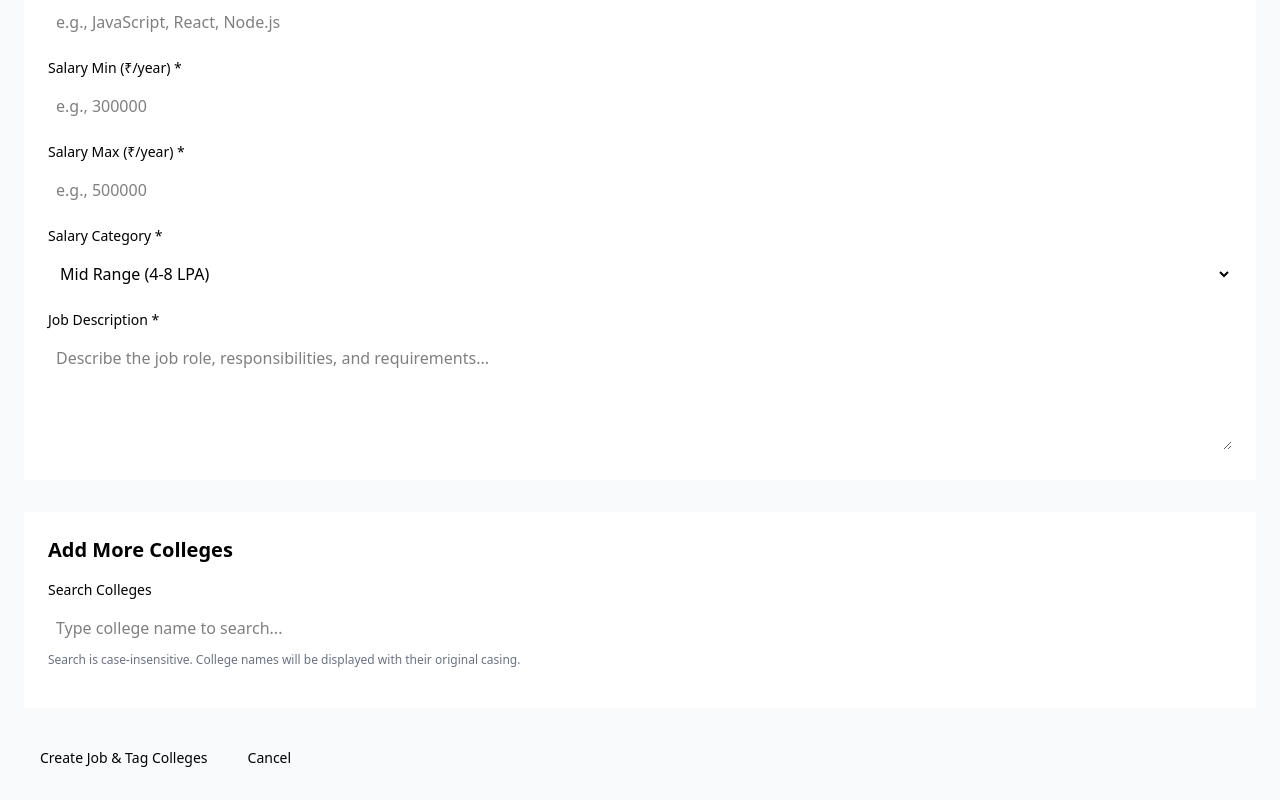
Test case: Organization College Tagging Page › Adding Colleges › adds college to tagged list when clicked
(page scrolled)
Type "Stanford" into the field with placeholder "Type college name to search...". click: (640, 628)
box: [48,608,1232,648]
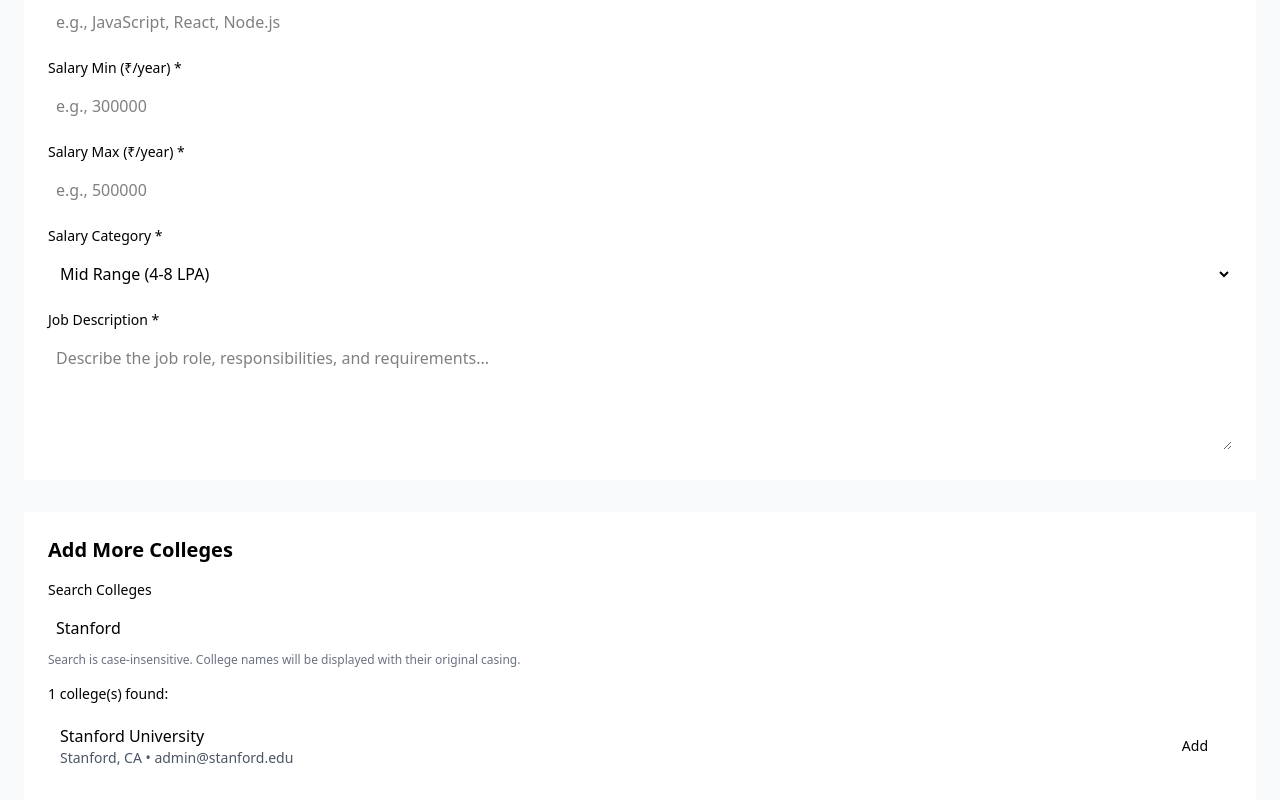
Result: the text "Stanford University" is shown at [60,725,204,747]
Click the button "Add". click: (1195, 746)
box: [1170,730,1220,762]
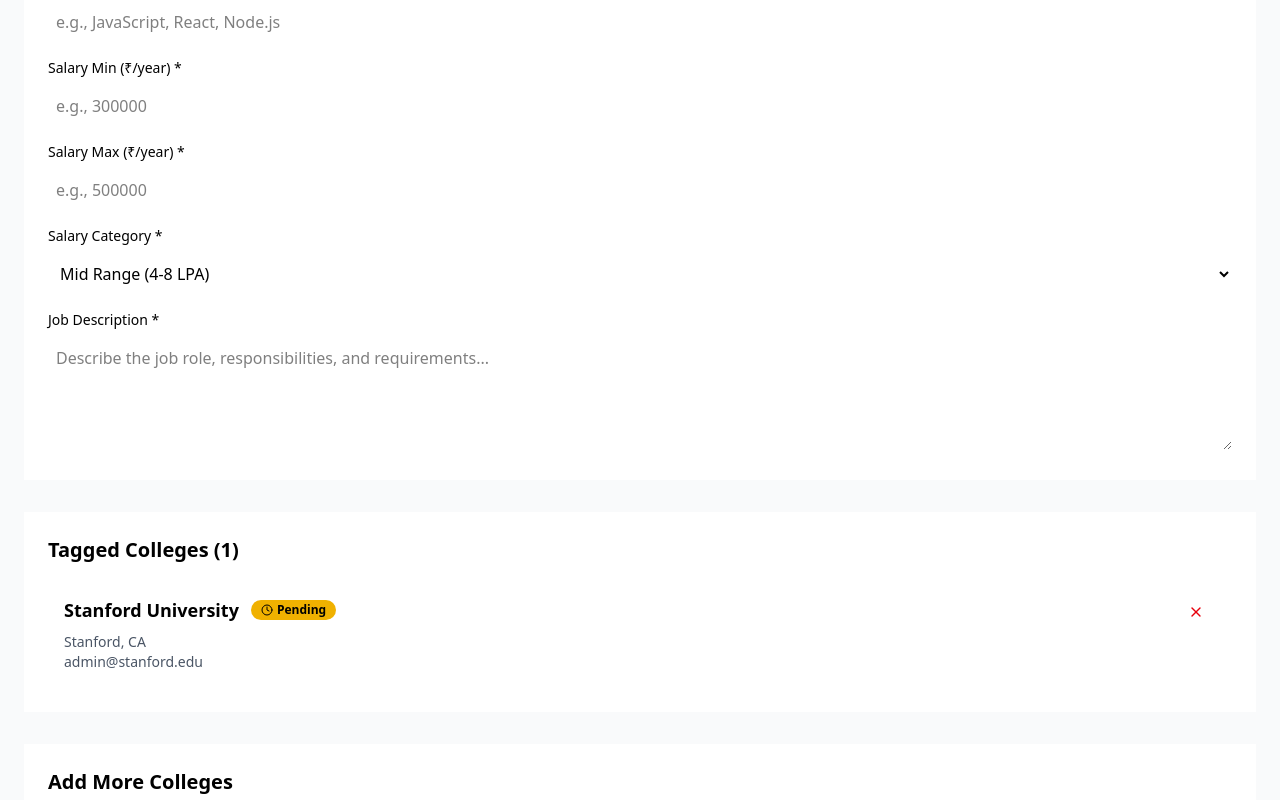
Result: the heading "Tagged Colleges (1)" is shown at [48,536,239,563]
